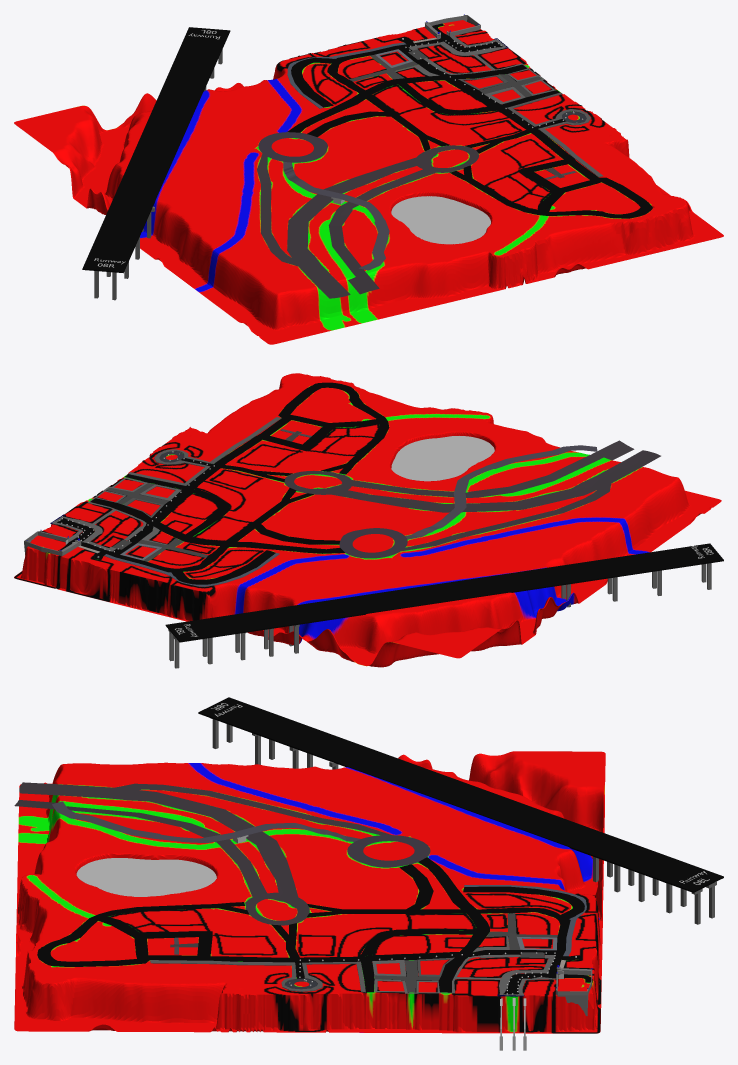
Rendered from StMary'sIsland (1).fbx.
The picture shows the model from 3 angles, top to bottom: view 1: azimuth 30°, elevation 25°; view 2: azimuth 150°, elevation 25°; view 3: azimuth 270°, elevation 25°; orthographic projection. The views are drawn at different scales.
Visible parts, largest first — view 1: Plane_001, Runway08, Roads, Circle, Vert_011, SlipLaneLeft, Vert_001, Circle_002, BannedRoads, Vert_005, Cube, Vert_014; view 2: Plane_001, Runway08, Roads, Circle, Vert_011, SlipLaneLeft, Vert_001, Circle_002, Vert_005, BannedRoads, Cube, Vert_014; view 3: Plane_001, Runway08, Roads, Circle, Vert_011, SlipLaneLeft, Vert_001, Circle_002, Vert_005, BannedRoads, Cube, Vert_014.
Part boxes in pixels (x1,y1,x2,y2): Plane_001: [14, 20, 723, 344]; Runway08: [82, 27, 230, 273]; Roads: [287, 23, 652, 218]; Circle: [257, 145, 478, 298]; Vert_011: [391, 196, 490, 244]; SlipLaneLeft: [283, 161, 389, 270]; Vert_001: [408, 35, 555, 95]; Circle_002: [258, 132, 327, 162]; BannedRoads: [349, 54, 541, 97]; Vert_005: [507, 92, 602, 177]; Cube: [425, 15, 480, 39]; Vert_014: [287, 42, 406, 108]; Plane_001: [14, 373, 721, 667]; Runway08: [165, 543, 723, 642]; Roads: [46, 382, 389, 584]; Circle: [284, 440, 660, 551]; Vert_011: [391, 436, 494, 481]; SlipLaneLeft: [405, 445, 597, 539]; Vert_001: [52, 477, 147, 551]; Circle_002: [339, 528, 407, 558]; Vert_005: [129, 417, 281, 485]; BannedRoads: [106, 483, 207, 561]; Cube: [24, 530, 81, 556]; Vert_014: [104, 553, 279, 586]; Plane_001: [14, 751, 605, 1033]; Runway08: [198, 697, 723, 892]; Roads: [37, 857, 592, 994]; Circle: [14, 782, 390, 925]; Vert_011: [76, 858, 216, 896]; SlipLaneLeft: [52, 801, 360, 842]; Vert_001: [374, 954, 555, 996]; Circle_002: [347, 835, 430, 867]; Vert_005: [150, 960, 365, 992]; BannedRoads: [374, 913, 557, 992]; Cube: [556, 966, 592, 1015]; Vert_014: [464, 885, 586, 956].
Bounding box in the file's own units: 91773 × 8211 × 90815.
48 materials, 1 textured.
